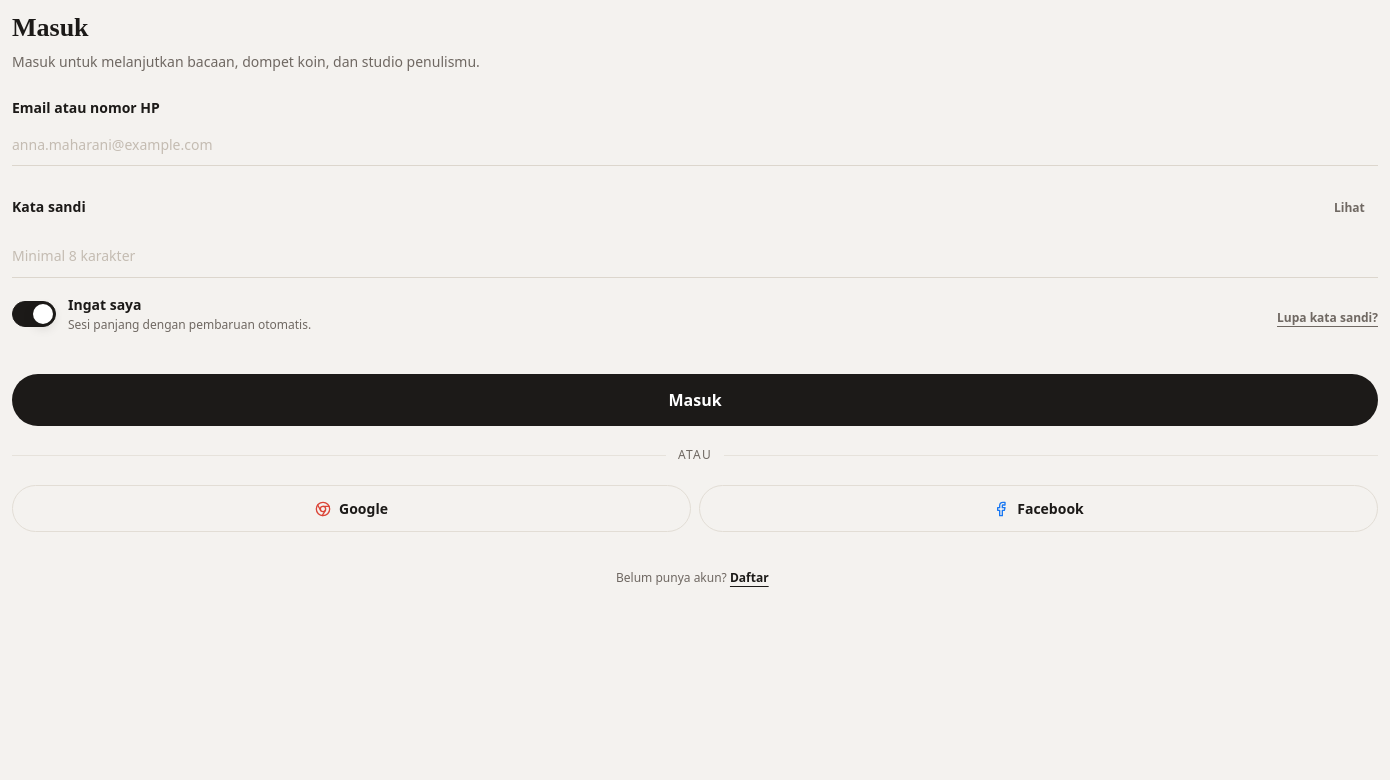
Test case: formulir masuk · FR-AUTH-09 › kesalahan pertama menang — dua isian salah, satu pesan
Click the button "Masuk": (695, 400) [12, 374, 1378, 426]
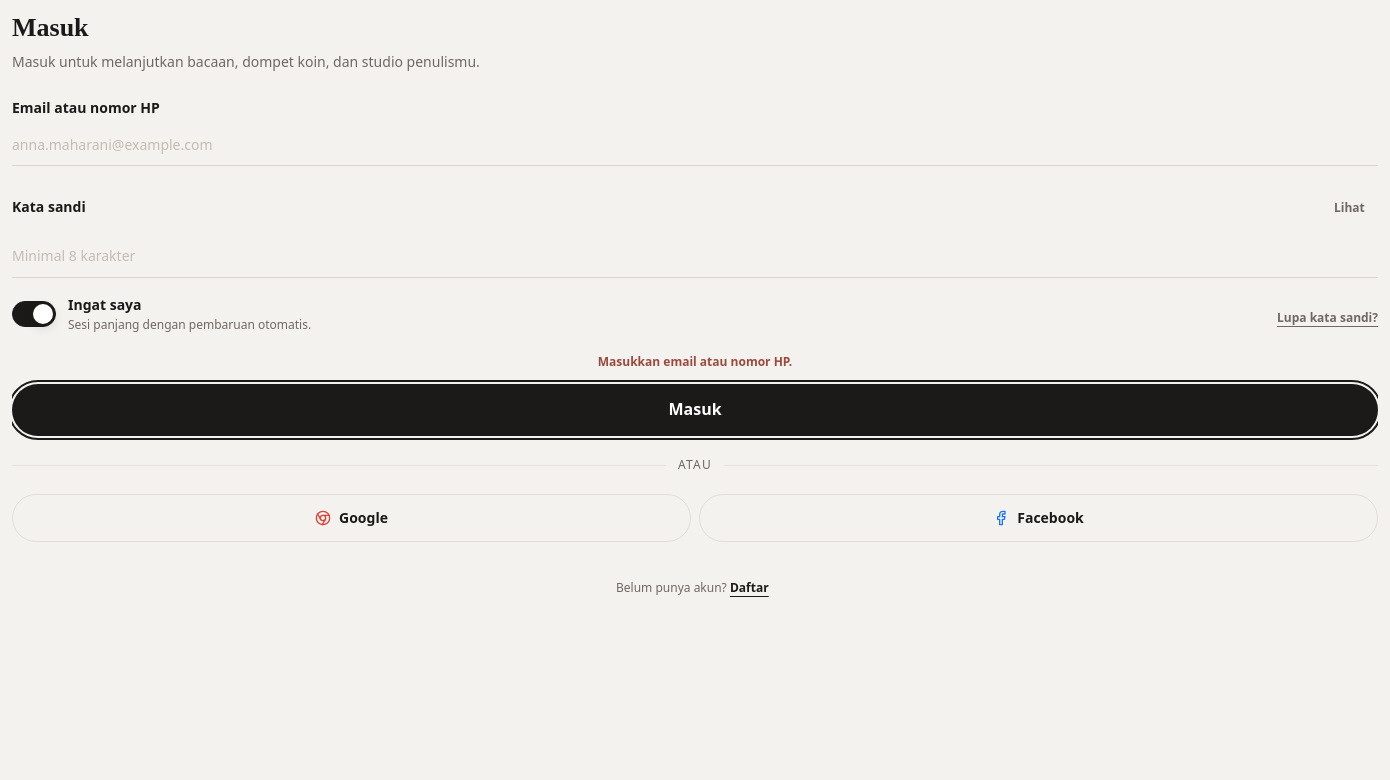
Check: the message reads "Masukkan email atau nomor HP.", box [598, 353, 792, 370]
